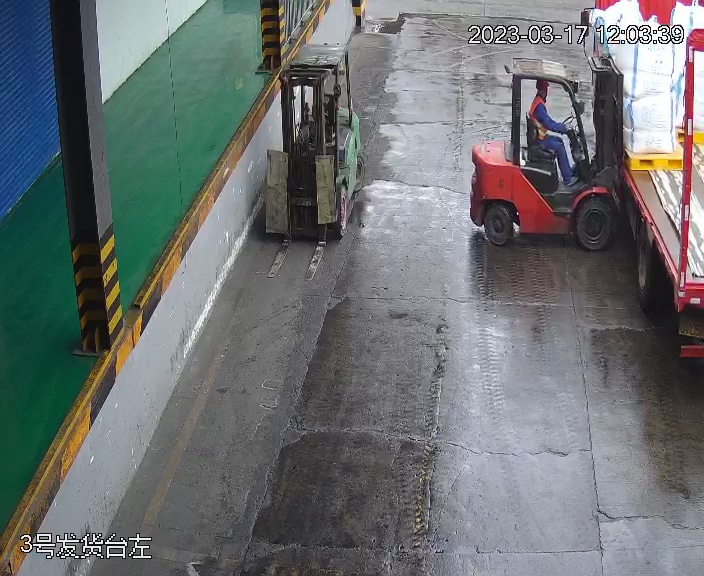head: (530, 80, 550, 116)
helmet: (536, 79, 550, 91)
people: (524, 77, 578, 181)
